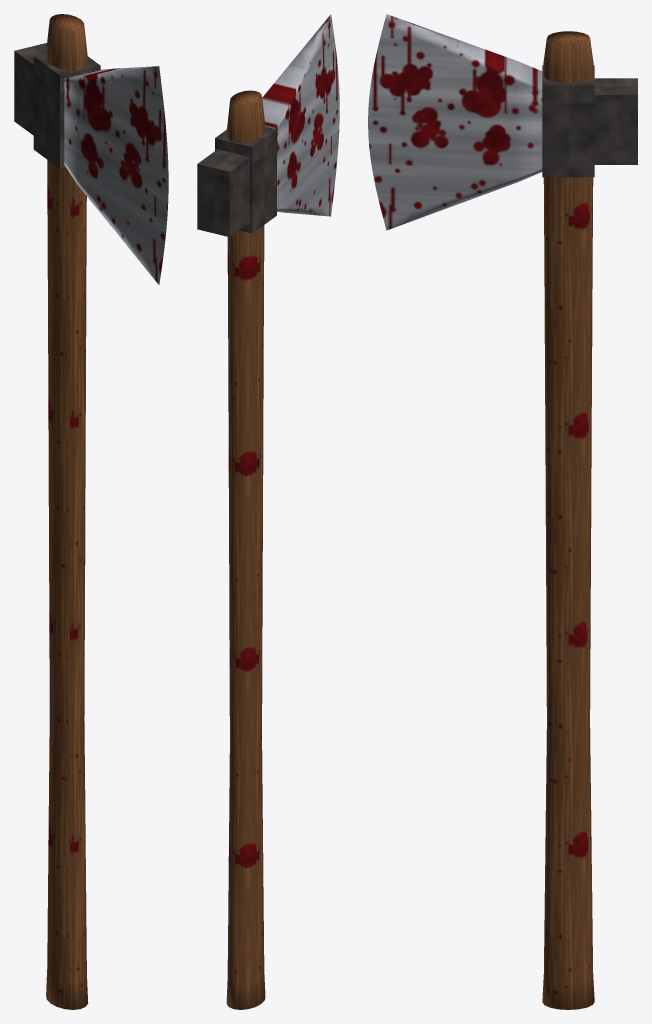
File: 斧_axe.glb
3 renders of one model, left to right at view 1: azimuth 30°, elevation 25°; view 2: azimuth 150°, elevation 25°; view 3: azimuth 270°, elevation 25°, orthographic. The views are drawn at different scales.
Visible parts, largest first — view 1: axe; view 2: axe; view 3: axe.
Part boxes in pixels (x1,y1,x2,y2): axe: (14,14,168,1009); axe: (197,14,339,1009); axe: (368,14,637,1009).
Size of the model in its own units: 0.03 by 0.707 by 0.175.
Materials: 3 (3 with a texture image).
